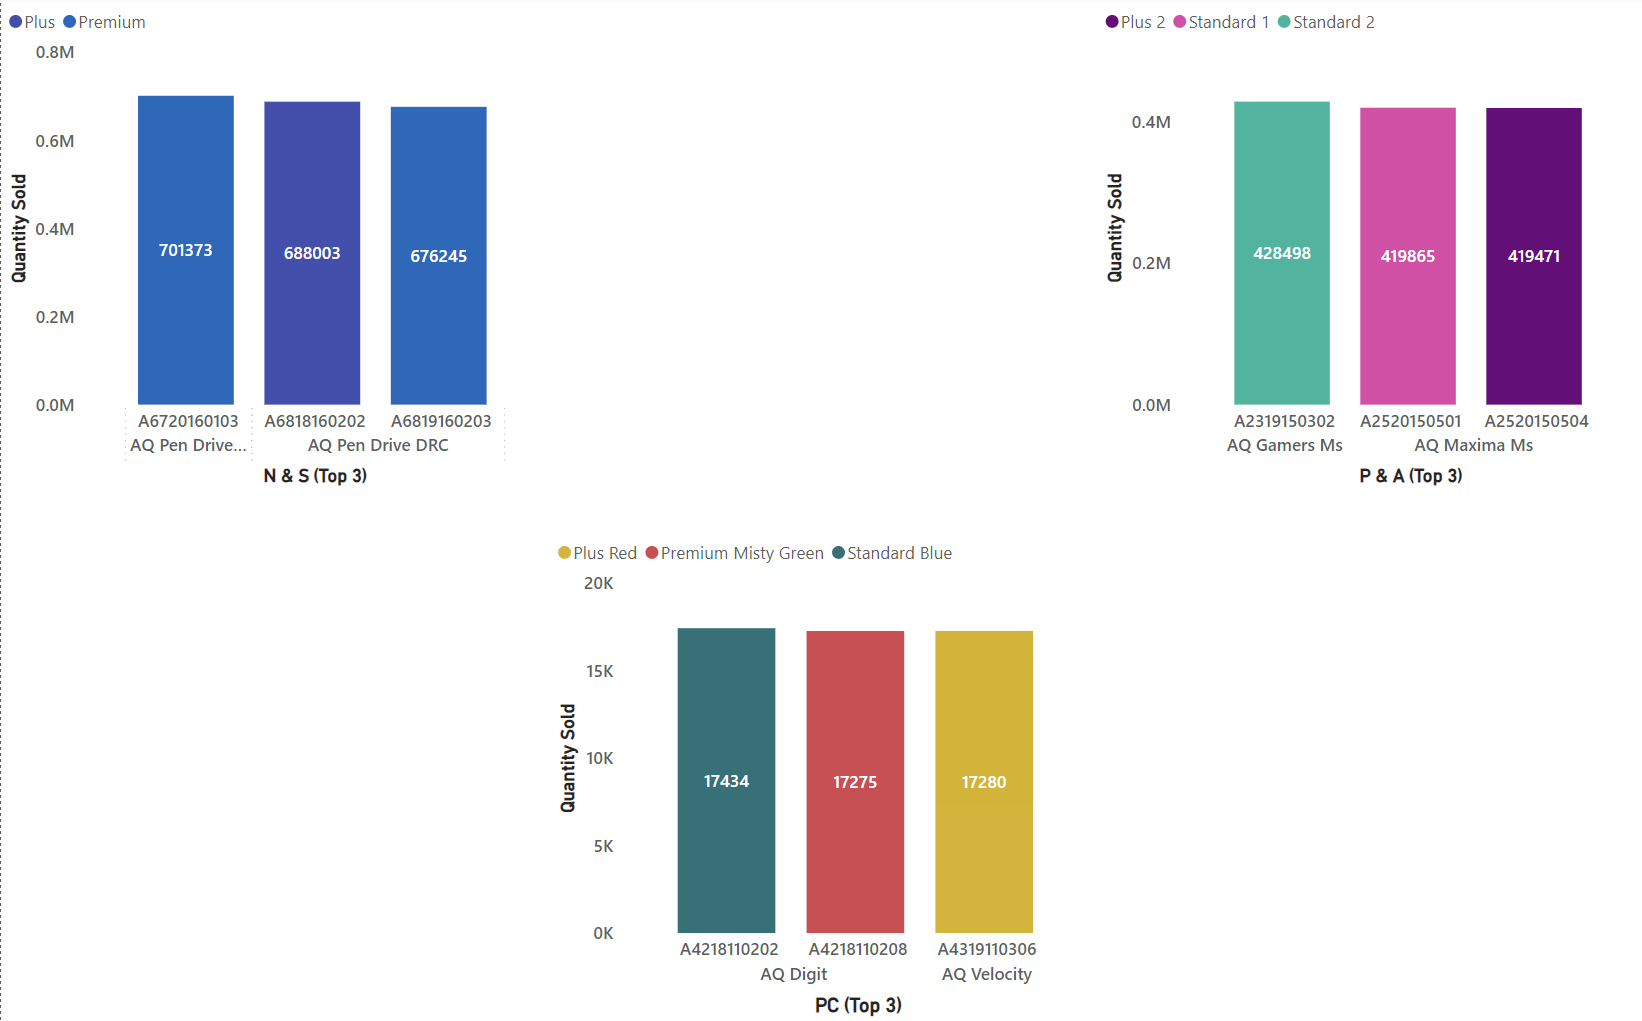

Layout of this report page (visuals, bound fields, positions):
{"tool":"powerbi","page":{"name":"Query 10","canvas":[1280,800],"ordinal":9},"visuals":[{"type":"columnChart","fields":{"Category":["gdb023 dim_product.product","gdb023 dim_product.product_code"],"Y":["Sum(gdb023 fact_sales_monthly.sold_quantity)"],"Series":["gdb023 dim_product.variant"]},"box":[0,0,426.5,386.8],"z":0},{"type":"columnChart","fields":{"Category":["gdb023 dim_product.product","gdb023 dim_product.product_code"],"Y":["Sum(gdb023 fact_sales_monthly.sold_quantity)"],"Series":["gdb023 dim_product.variant"]},"box":[854.2,0,425.3,386.8],"z":1000},{"type":"columnChart","fields":{"Category":["gdb023 dim_product.product","gdb023 dim_product.product_code"],"Y":["Sum(gdb023 fact_sales_monthly.sold_quantity)"],"Series":["gdb023 dim_product.variant"]},"box":[427.7,413.6,425.3,386.8],"z":2000}]}

Visuals, with their boxes in screenshot pixels (x1, y1, x2, y2), scaled from the page's 1280x800 canvas onto the 1642x1021 screenshot:
columnChart - gdb023 dim_product.product x gdb023 dim_product.product_code: l=0, t=0, r=547, b=494
columnChart - gdb023 dim_product.product x gdb023 dim_product.product_code: l=1096, t=0, r=1641, b=494
columnChart - gdb023 dim_product.product x gdb023 dim_product.product_code: l=549, t=528, r=1094, b=1020
